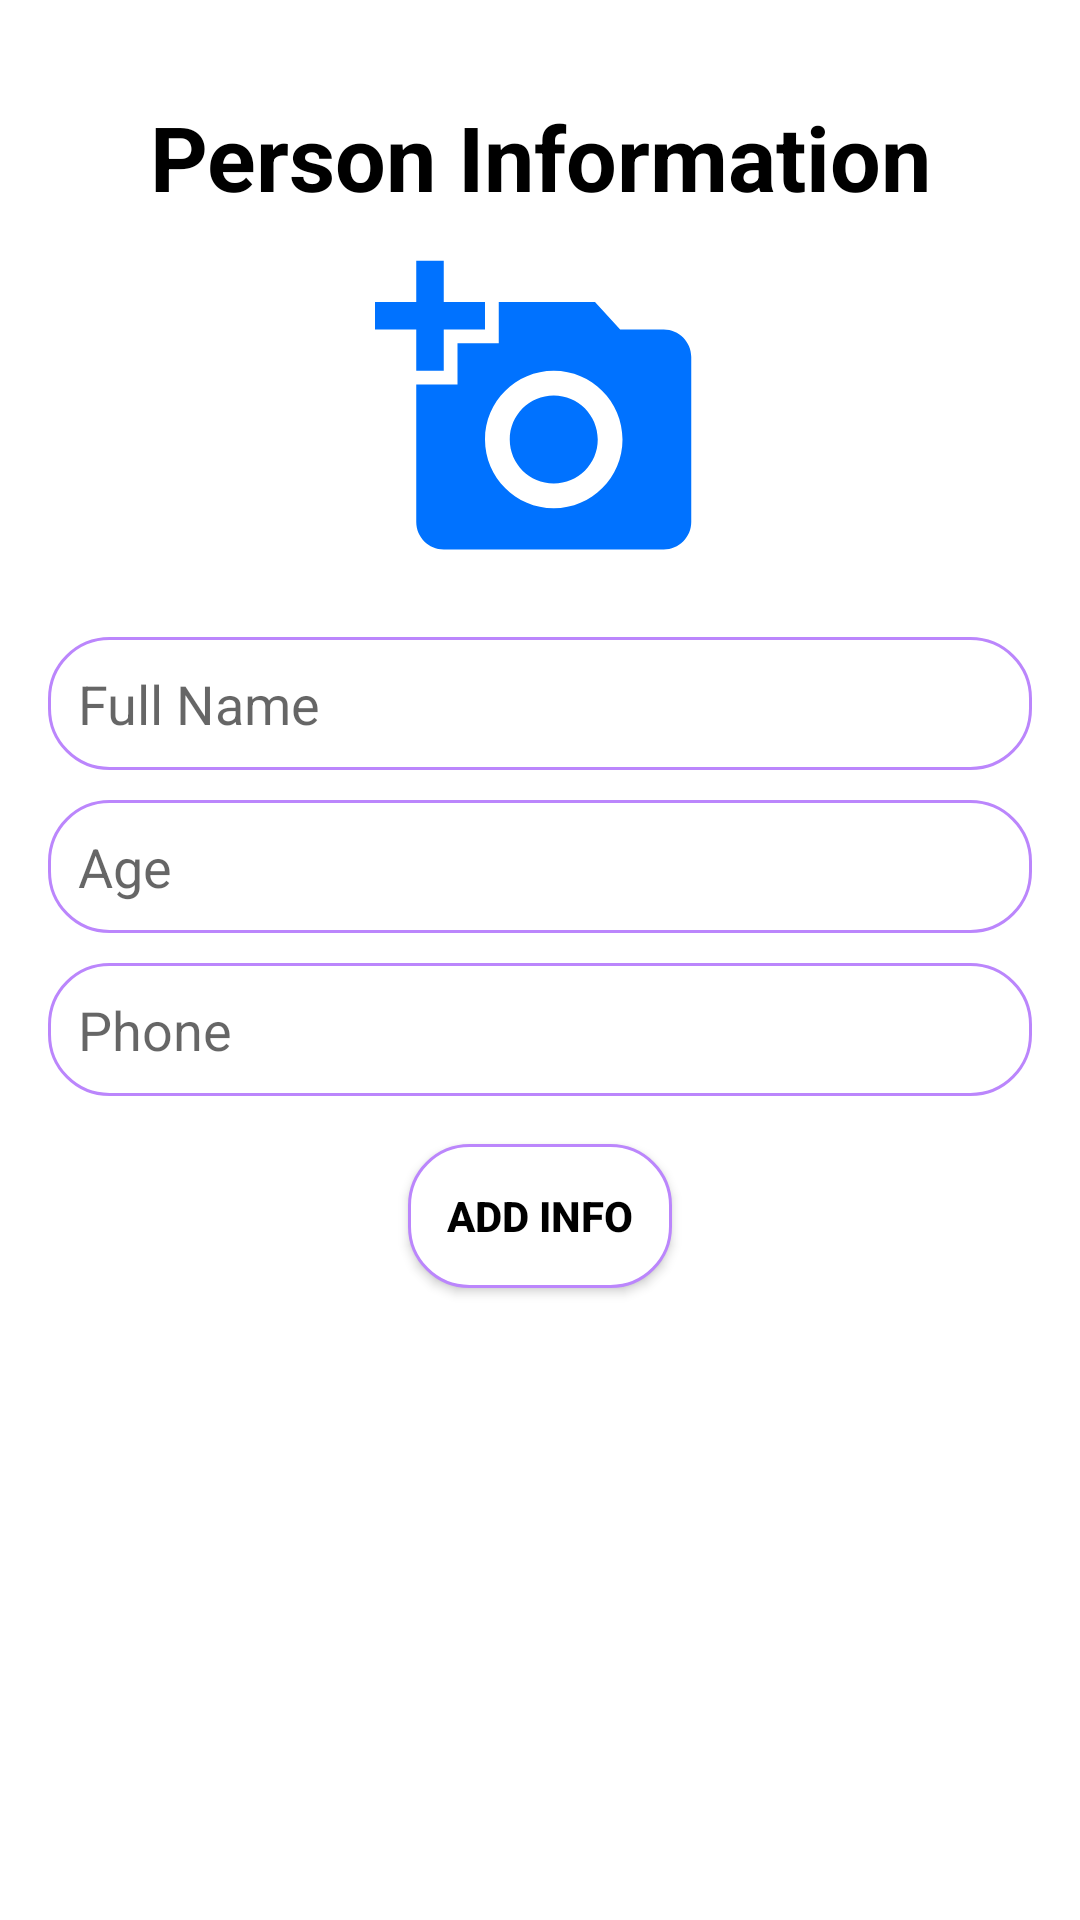

Point at icon controls on the screen. Image size 1080×1920, points as [x,y].
add photo: [533,405]
